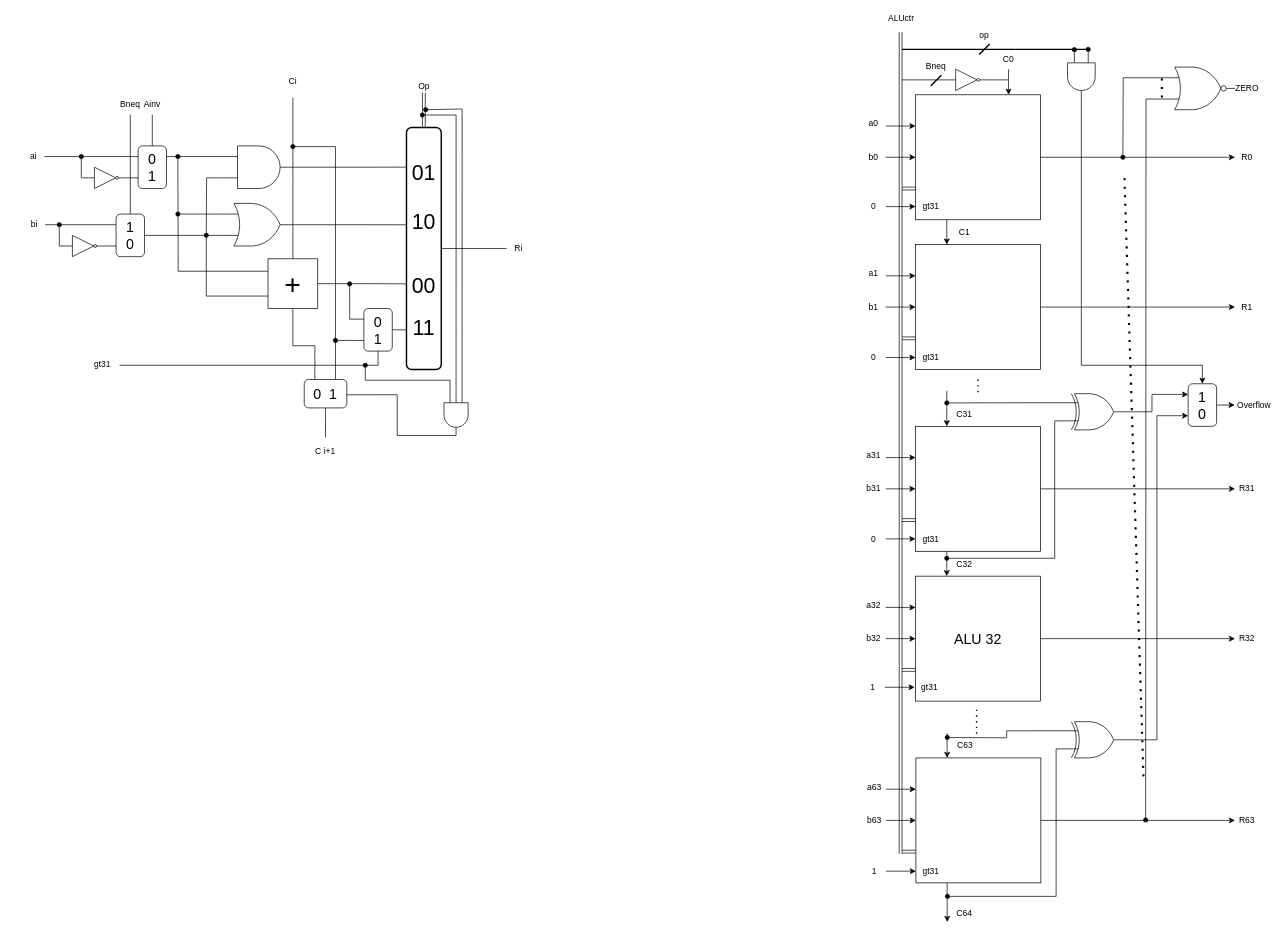
Image size: 1283x940. Some labels were removed from this diagram. The shapes that lost their labels are listed below. From the top down, each one's box as (x1, y1, x2, y2) in pixels, then its label:
(915, 94, 1041, 220): ALU 0
(915, 244, 1041, 370): ALU 1
(915, 426, 1041, 551): ALU 31
(915, 757, 1041, 883): ALU 63
